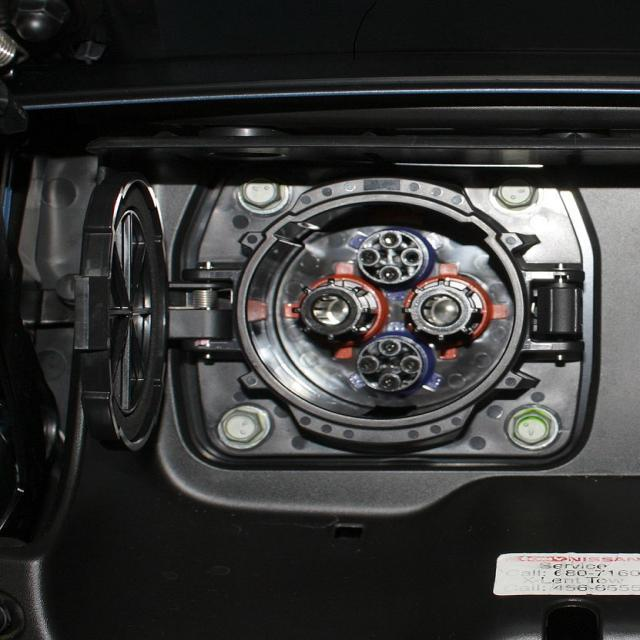CHAdeMO: (246, 189, 619, 462)
